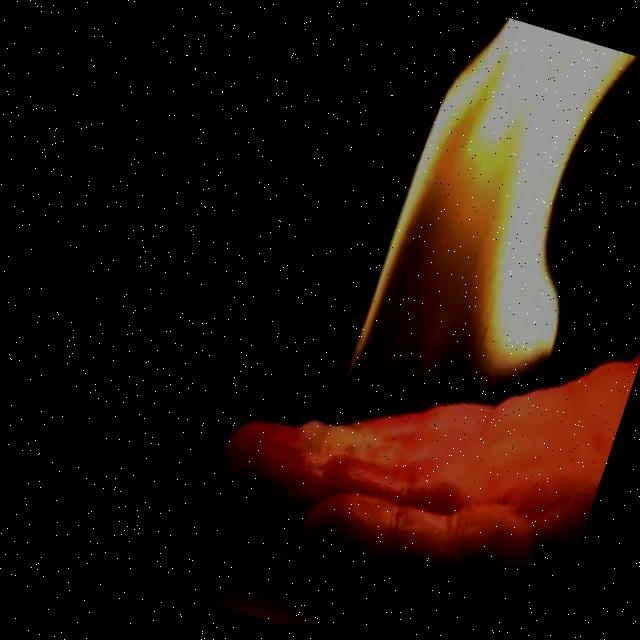Smoke: (296, 0, 640, 510)
